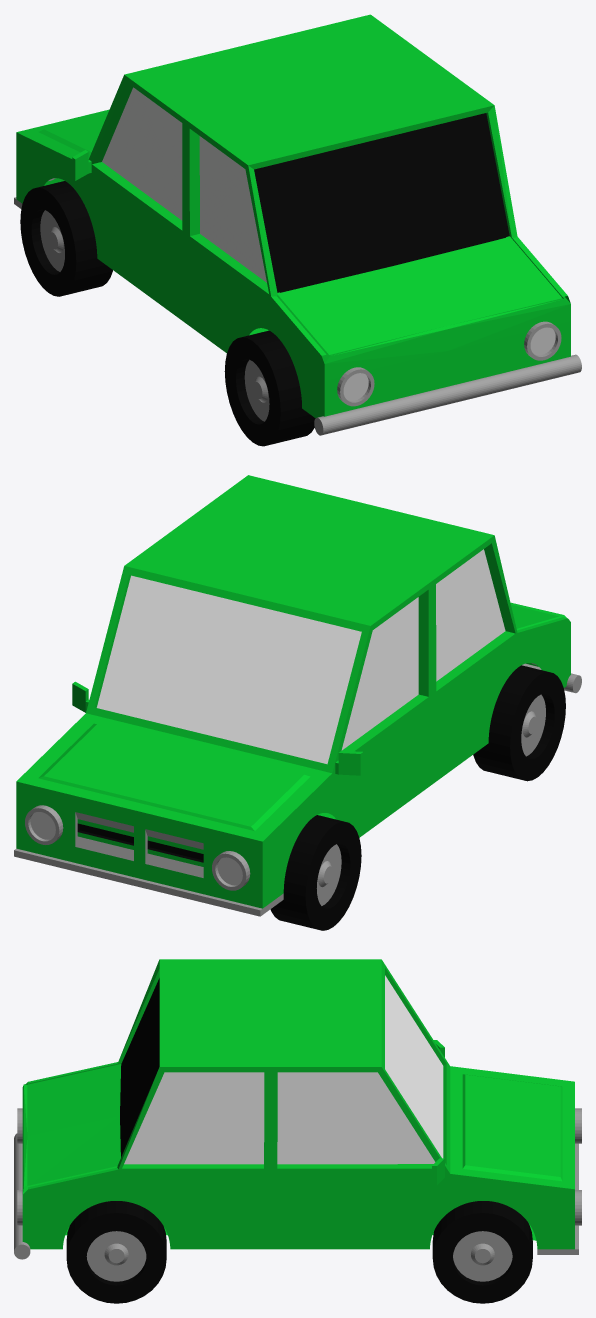
The model's file is Green Car.dae.
3 renders of one model, top to bottom at view 1: azimuth 30°, elevation 25°; view 2: azimuth 150°, elevation 25°; view 3: azimuth 270°, elevation 25°, orthographic. The views are drawn at different scales.
Visible parts, largest first — view 1: GreenCar, Cylinder-001, Cylinder-003, Cube-001, Cylinder-004; view 2: GreenCar, Cylinder-001, Cylinder-003, Cylinder-002; view 3: GreenCar, Cylinder-001, Cylinder-003, Cube-001, Cylinder-002.
Boxes of the visible parts, bbox=[...] form: GreenCar: bbox=[14, 14, 570, 418]; Cylinder-001: bbox=[224, 330, 315, 446]; Cylinder-003: bbox=[20, 181, 112, 296]; Cube-001: bbox=[314, 354, 581, 435]; Cylinder-004: bbox=[337, 321, 561, 406]; GreenCar: bbox=[14, 475, 570, 916]; Cylinder-001: bbox=[473, 665, 565, 781]; Cylinder-003: bbox=[270, 815, 361, 930]; Cylinder-002: bbox=[25, 805, 250, 890]; GreenCar: bbox=[22, 959, 578, 1254]; Cylinder-001: bbox=[66, 1201, 166, 1303]; Cylinder-003: bbox=[432, 1201, 532, 1303]; Cube-001: bbox=[14, 1133, 30, 1259]; Cylinder-002: bbox=[575, 1108, 581, 1225].
Bounding box in the file's own units: 1.43 × 1.21 × 2.73.
